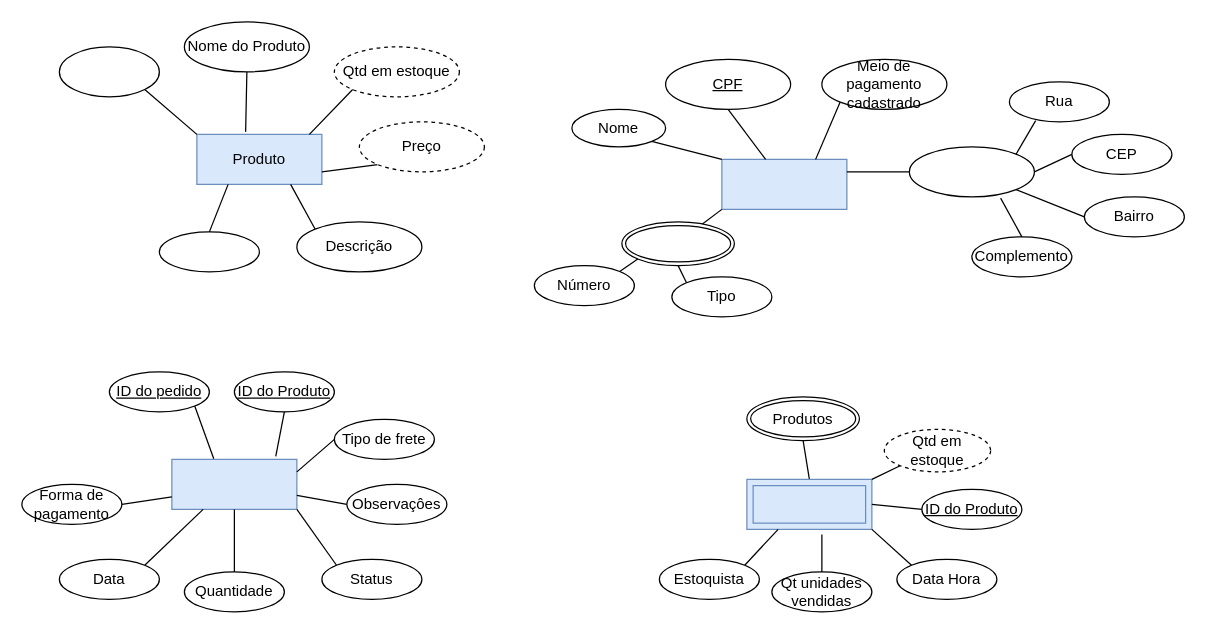
Image size: 1206x634. Some labels were removed from this diagram. Here are the shapes that lost their labels. From the top down, the centre of each, then its label:
the point at 108,71: ID
the point at 784,183: Cliente
the point at 971,171: Endereço
the point at 208,251: Categoria
the point at 677,243: telefone
the point at 234,483: Pedido
the point at 809,503: Estoque
